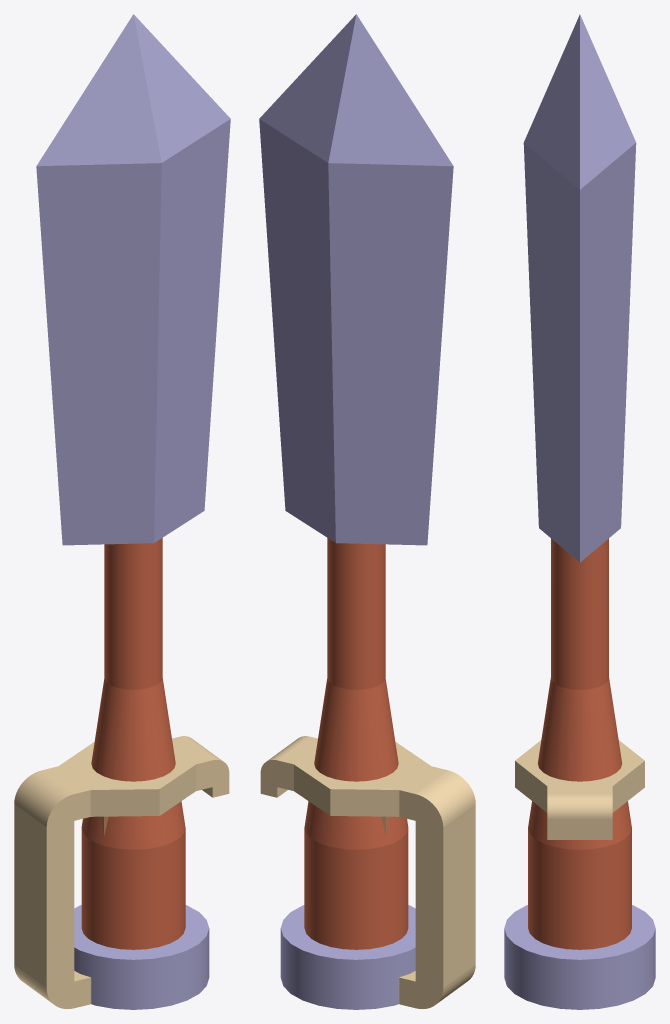
File: StickBlade.fbx
The picture shows the model from 3 angles, left to right: view 1: azimuth 30°, elevation 25°; view 2: azimuth 150°, elevation 25°; view 3: azimuth 270°, elevation 25°; orthographic projection.
Parts seen in each view (by area): view 1: mergedBlocks; view 2: mergedBlocks; view 3: mergedBlocks.
Boxes of the visible parts, x1,y1,x2,y2 form: mergedBlocks: (14,14,230,1009); mergedBlocks: (259,14,475,1009); mergedBlocks: (504,14,655,1009).
Bounding box in the file's own units: 3.91 × 18 × 2.56.
